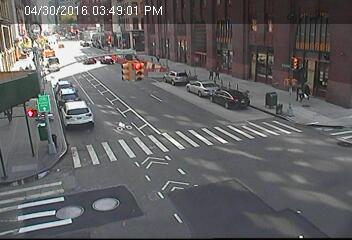neg: (3, 109, 15, 125), (163, 36, 174, 51), (17, 42, 27, 55), (69, 26, 78, 38), (40, 37, 47, 48)
pos: (291, 78, 308, 102), (206, 67, 217, 81), (214, 66, 224, 78), (153, 53, 160, 61)
